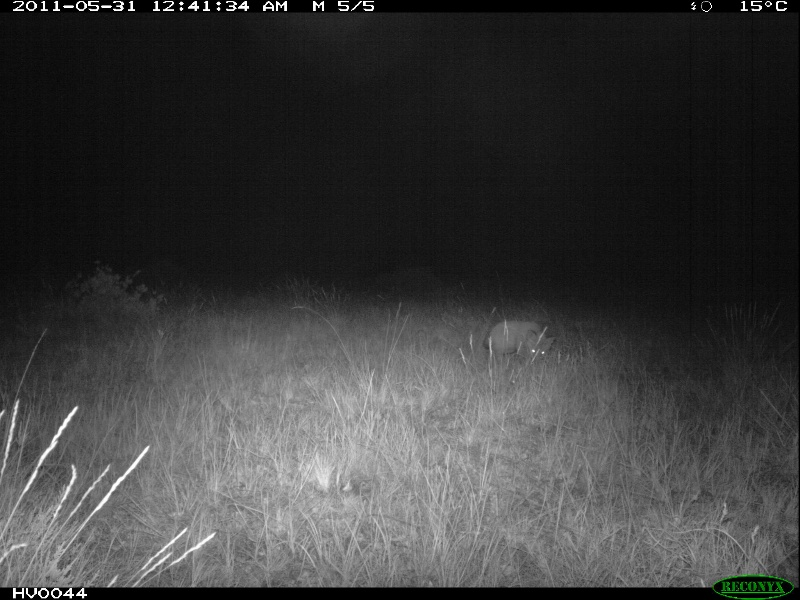fox: (480, 318, 556, 365)
